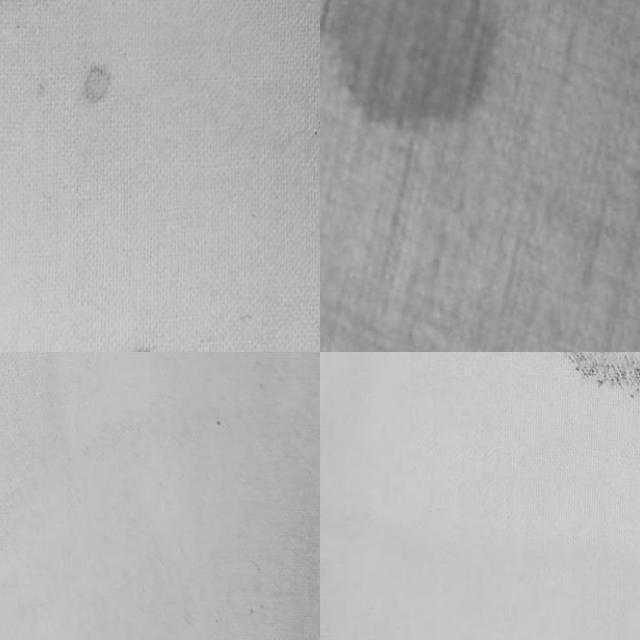Thread_other: (320, 0, 552, 214), (49, 43, 133, 130), (548, 352, 640, 421)
